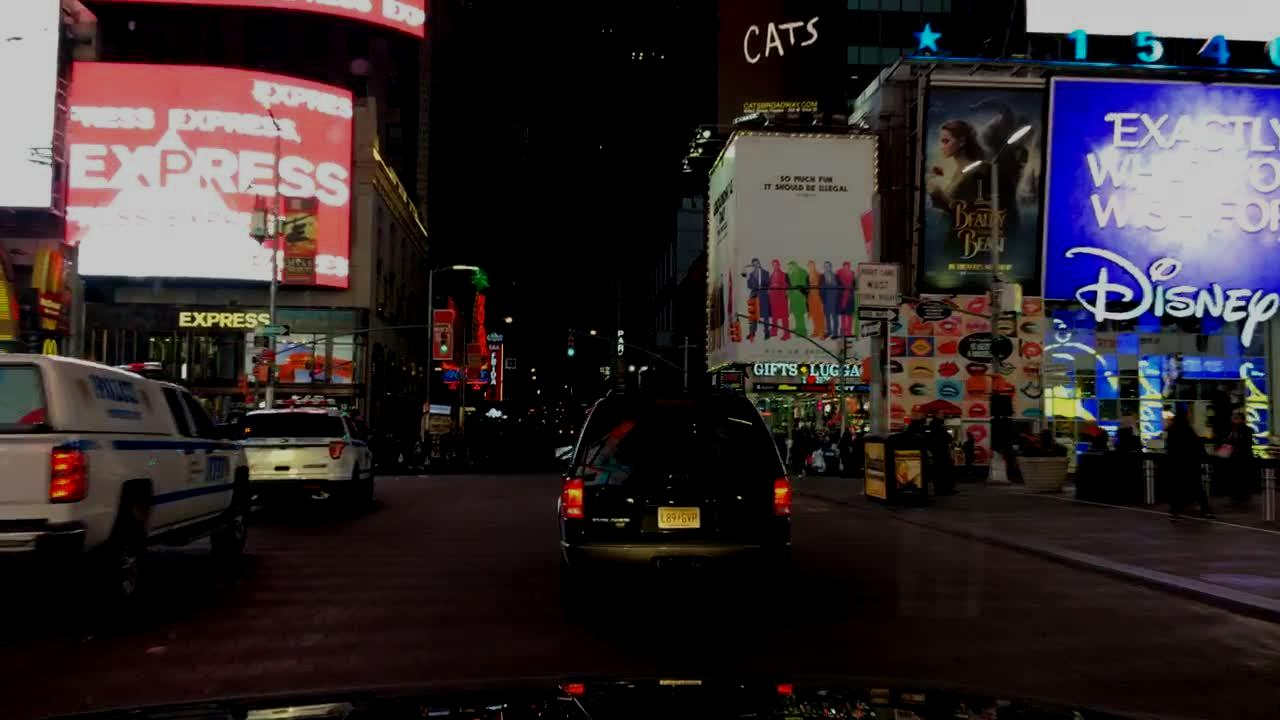ford: (664, 469, 694, 487)
